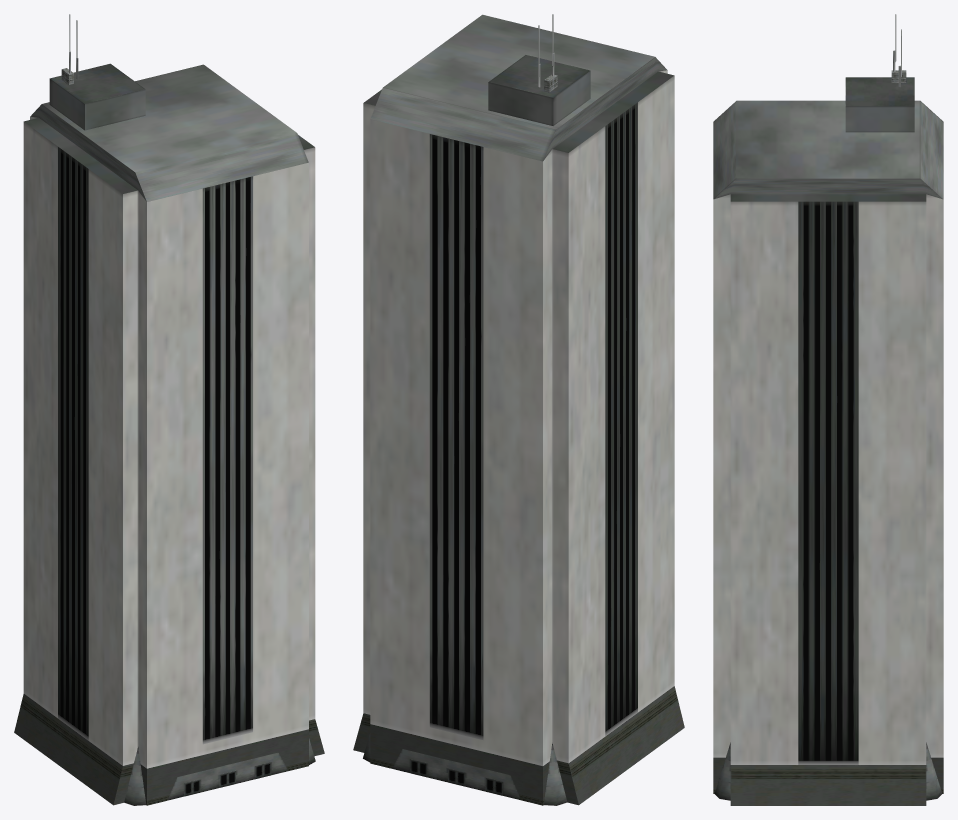
Rendered from thm_corl_imprv_building_s01_r0_mesh_l3.fbx.
3 renders of one model, left to right at view 1: azimuth 30°, elevation 25°; view 2: azimuth 150°, elevation 25°; view 3: azimuth 270°, elevation 25°, orthographic. The views are drawn at different scales.
Visible parts, largest first — view 1: mesh_node; view 2: mesh_node; view 3: mesh_node.
Boxes of the visible parts, <box> form: mesh_node: <box>14,14,324,805</box>; mesh_node: <box>353,14,684,805</box>; mesh_node: <box>713,14,943,805</box>.
Bounding box in the file's own units: 41.8 × 136 × 40.
1 material, 1 textured.
